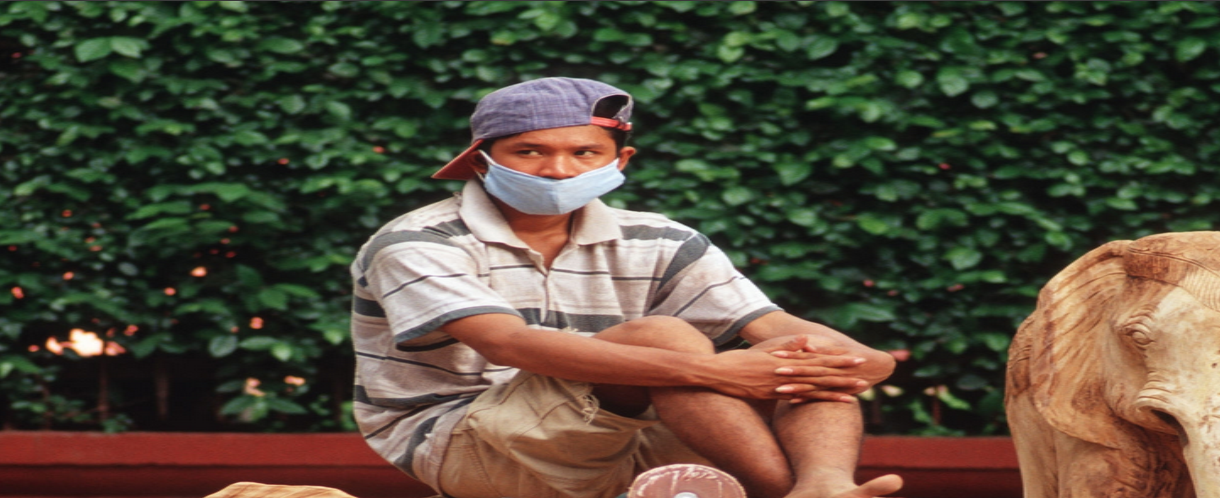mask_weared_incorrect: (442, 75, 643, 227)
